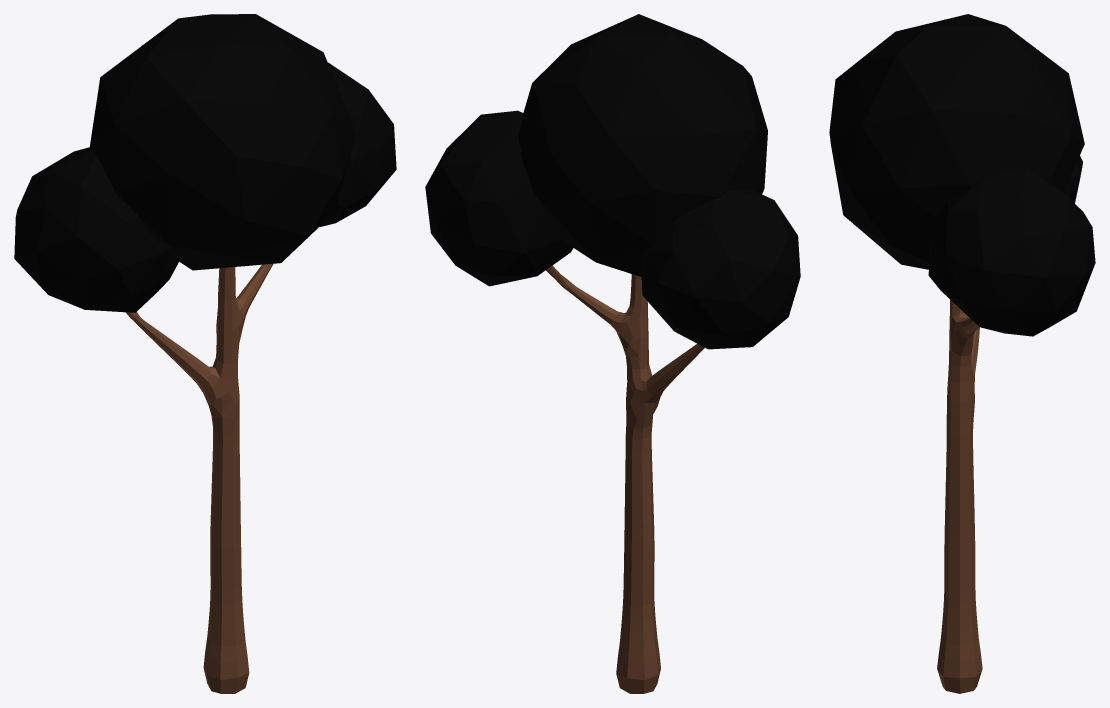
The model's file is Tree_Foliage_Small-1.fbx.
The picture shows the model from 3 angles, left to right: view 1: azimuth 30°, elevation 25°; view 2: azimuth 150°, elevation 25°; view 3: azimuth 270°, elevation 25°; orthographic projection.
Visible parts, largest first — view 1: Tree_Foliage_Small-1; view 2: Tree_Foliage_Small-1; view 3: Tree_Foliage_Small-1.
Boxes of the visible parts, bbox=[...] form: Tree_Foliage_Small-1: bbox=[14, 14, 396, 693]; Tree_Foliage_Small-1: bbox=[425, 14, 800, 693]; Tree_Foliage_Small-1: bbox=[829, 14, 1095, 693].
Bounding box in the file's own units: 0.6053 × 1.08 × 0.3959.
